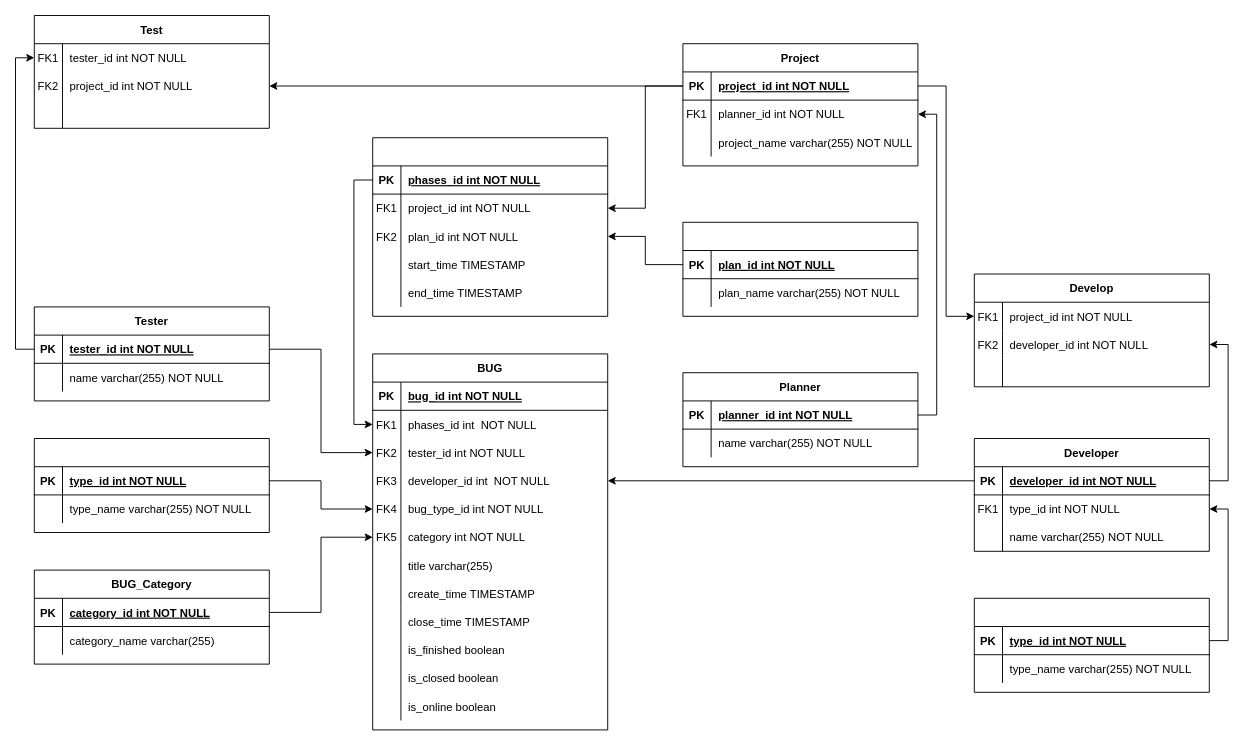
The diagram is 1244 pixels wide and 745 high, and some of its shapes have lost their labels. The shapes that lost their labels are listed below. From the top down, each one's box as (x1, y1, x2, y2) in pixels, then its label:
(372, 137, 608, 316): Project_phases
(682, 221, 918, 316): TestPlan
(33, 438, 269, 533): BUG_Type
(973, 597, 1209, 692): Develop_Type
